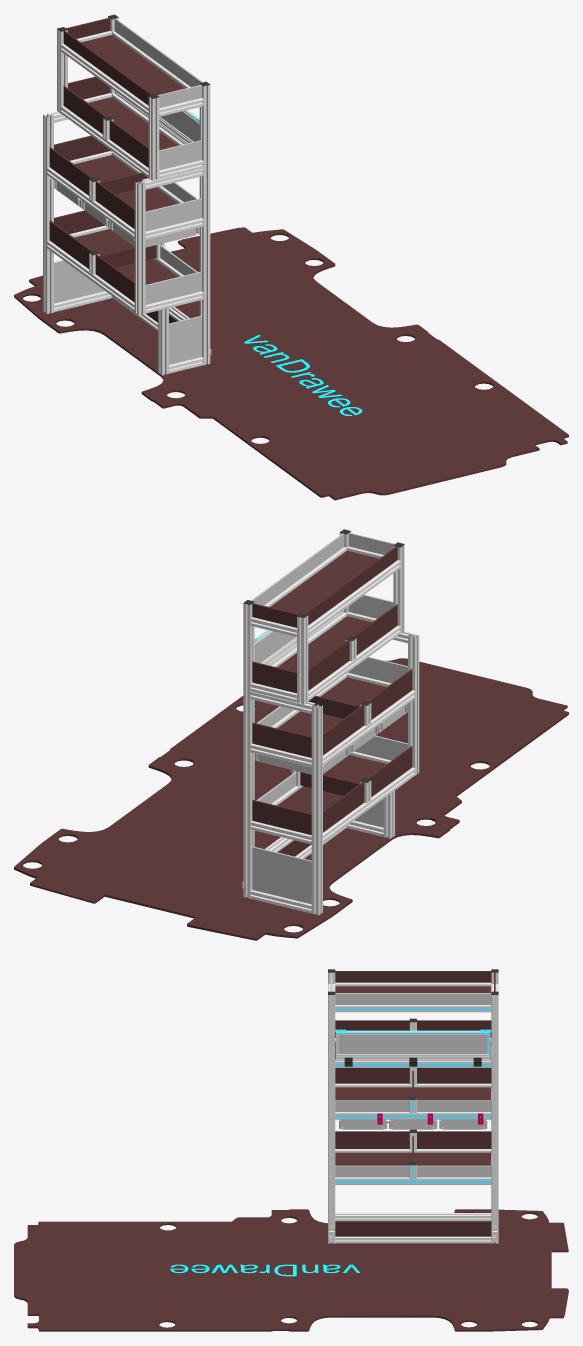
The model's file is vd_export_regalova_vestavba_vw_crafter_l3h3_fwd_54f348b5.glb.
3 views of the same model, one above another, from view 1: azimuth 30°, elevation 25°; view 2: azimuth 150°, elevation 25°; view 3: azimuth 270°, elevation 25° (orthographic). The views are drawn at different scales.
Parts seen in each view (by area): view 1: SomeName_Mesh_0056_2, PR10_1266x306 (×2), PR10_966x395 (×2), 45x45x1700_noha, 45x45x967_Zx2_2 (×3), PR10_485x130_2 (×3), PR10_485x130 (×3), CUB10_395x130 (×2), 45x45x1200_noha, 45x45x500_Zx1 (×2), PR10_395x130 (×2), 45x45x800_noha (+13 smaller); view 2: SomeName_Mesh_0056_2, PR10_1266x306 (×2), PR10_966x395 (×2), 45x45x1700_noha, 45x45x967_Zx2_2 (×3), PR10_485x130 (×3), PR10_485x130_2 (×3), CUB10_395x260, PR10_395x130 (×2), 45x45x1200_noha, 45x45x500_Zx1 (×2), 45x45x369_Zx2_2 (×3) (+16 smaller); view 3: SomeName_Mesh_0056_2, PR10_966x395 (×2), 45x45x1700_noha (×2), PR10_485x130_2 (×3), PR10_485x130 (×3), 45x45x967_Zx2 (×3), CUB6_928x145, PR10_1291x130, CUB10_1292x89, PR10_1292x89, CUB10_485x89_2 (×2), CUB10_485x89 (×2) (+11 smaller).
Part boxes in pixels (box(x1,y1,x2,y2)): SomeName_Mesh_0056_2: box(14, 227, 568, 500); PR10_1266x306 (×2): box(81, 35, 184, 150); PR10_966x395 (×2): box(74, 155, 177, 284); 45x45x1700_noha: box(199, 84, 210, 365); 45x45x967_Zx2_2 (×3): box(47, 106, 148, 311); PR10_485x130_2 (×3): box(49, 85, 106, 268); PR10_485x130 (×3): box(95, 120, 148, 302); CUB10_395x130 (×2): box(145, 198, 201, 304); 45x45x1200_noha: box(43, 113, 53, 313); 45x45x500_Zx1 (×2): box(57, 29, 159, 180); PR10_395x130 (×2): box(54, 135, 110, 233); 45x45x800_noha: box(134, 180, 145, 315); SomeName_Mesh_0056_2: box(14, 658, 568, 940); PR10_1266x306 (×2): box(270, 551, 378, 672); PR10_966x395 (×2): box(277, 677, 386, 813); 45x45x1700_noha: box(243, 602, 254, 898); 45x45x967_Zx2_2 (×3): box(308, 625, 415, 842); PR10_485x130 (×3): box(353, 604, 412, 796); PR10_485x130_2 (×3): box(308, 640, 364, 832); CUB10_395x260: box(252, 846, 311, 904); PR10_395x130 (×2): box(252, 722, 311, 834); 45x45x1200_noha: box(311, 704, 322, 915); 45x45x500_Zx1 (×2): box(297, 545, 404, 704); 45x45x369_Zx2_2 (×3): box(250, 743, 311, 913); SomeName_Mesh_0056_2: box(14, 1209, 568, 1331); PR10_966x395 (×2): box(335, 1087, 490, 1165); 45x45x1700_noha (×2): box(328, 995, 498, 1243); PR10_485x130_2 (×3): box(417, 1020, 491, 1148); PR10_485x130 (×3): box(335, 1020, 409, 1148); 45x45x967_Zx2 (×3): box(335, 1059, 491, 1184); CUB6_928x145: box(339, 1035, 487, 1054); PR10_1291x130: box(335, 1221, 491, 1236); CUB10_1292x89: box(335, 993, 491, 1004); PR10_1292x89: box(335, 971, 491, 982); CUB10_485x89_2 (×2): box(335, 1100, 409, 1177); CUB10_485x89 (×2): box(417, 1100, 491, 1177).
Bounding box in the file's own units: 1766 × 1720 × 3439.
